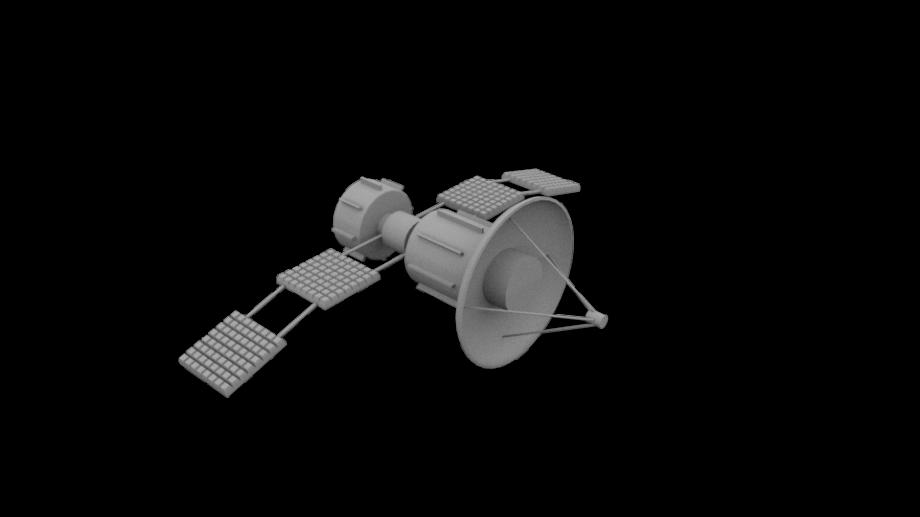antenna: (450, 195, 611, 373)
body: (329, 173, 494, 311)
solar: (176, 304, 288, 399), (274, 247, 382, 312), (434, 170, 526, 221), (499, 167, 583, 199)
